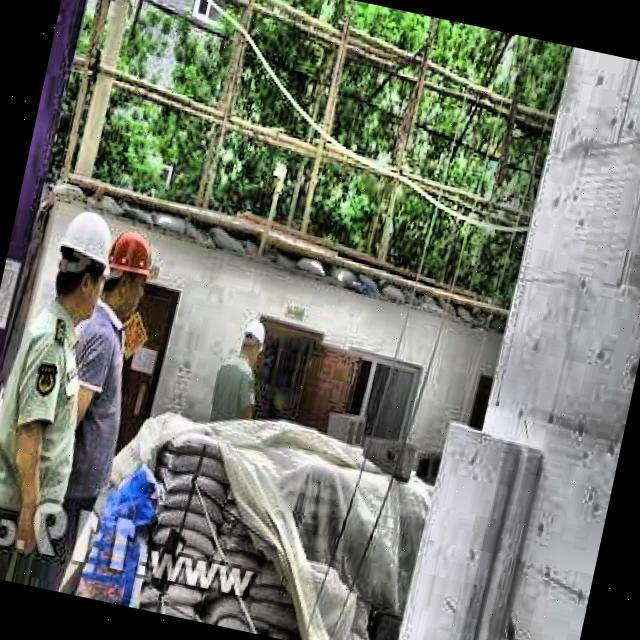helmet: (41, 200, 120, 324), (92, 225, 162, 322), (238, 316, 271, 364)
